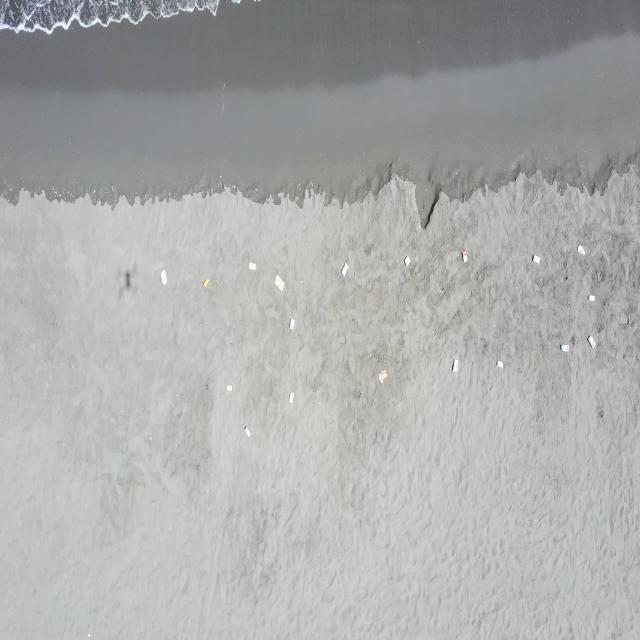Garbage: (273, 275, 283, 291), (377, 369, 387, 383), (160, 268, 167, 284), (340, 262, 347, 276), (460, 248, 467, 261), (588, 335, 595, 347), (577, 244, 584, 255), (247, 261, 255, 270), (532, 253, 539, 263), (288, 318, 295, 328), (243, 424, 249, 435), (452, 359, 457, 372), (560, 344, 568, 352), (201, 279, 208, 287), (587, 293, 595, 300), (287, 392, 292, 403), (404, 256, 409, 266), (496, 360, 503, 367), (226, 384, 231, 391), (148, 435, 151, 442), (87, 632, 88, 636)
